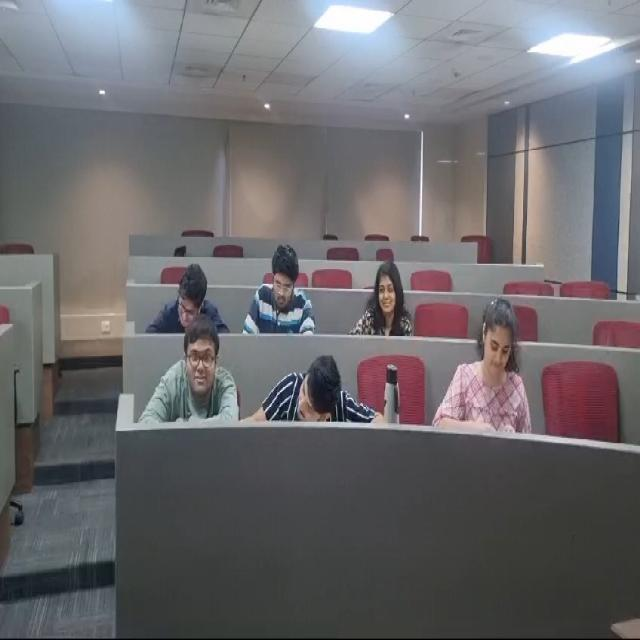cheating: (270, 350, 388, 433), (368, 249, 419, 331)
non-cheating: (457, 288, 530, 406), (255, 230, 325, 350), (174, 310, 246, 422), (159, 258, 230, 333)
